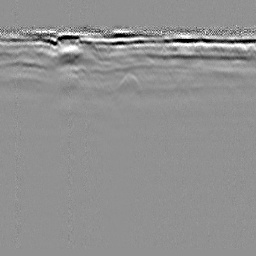cavity: (116, 69, 143, 91)
